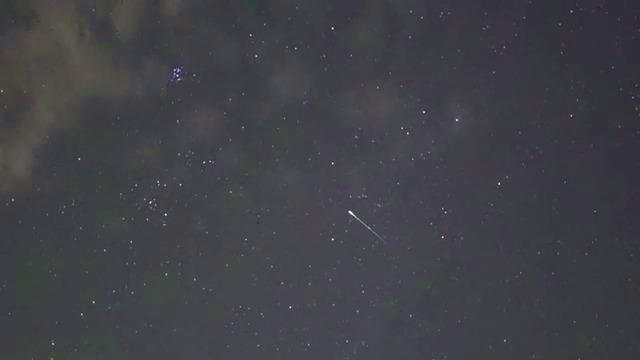meteorite: (327, 203, 402, 244)
